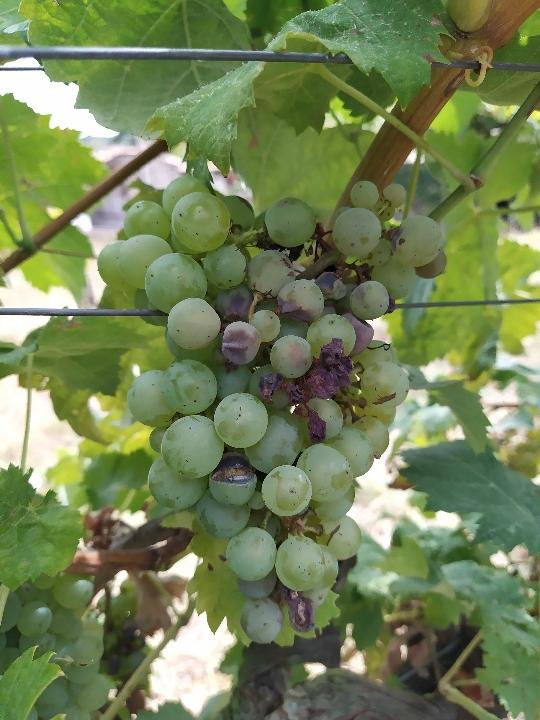grape: (94, 171, 447, 647)
